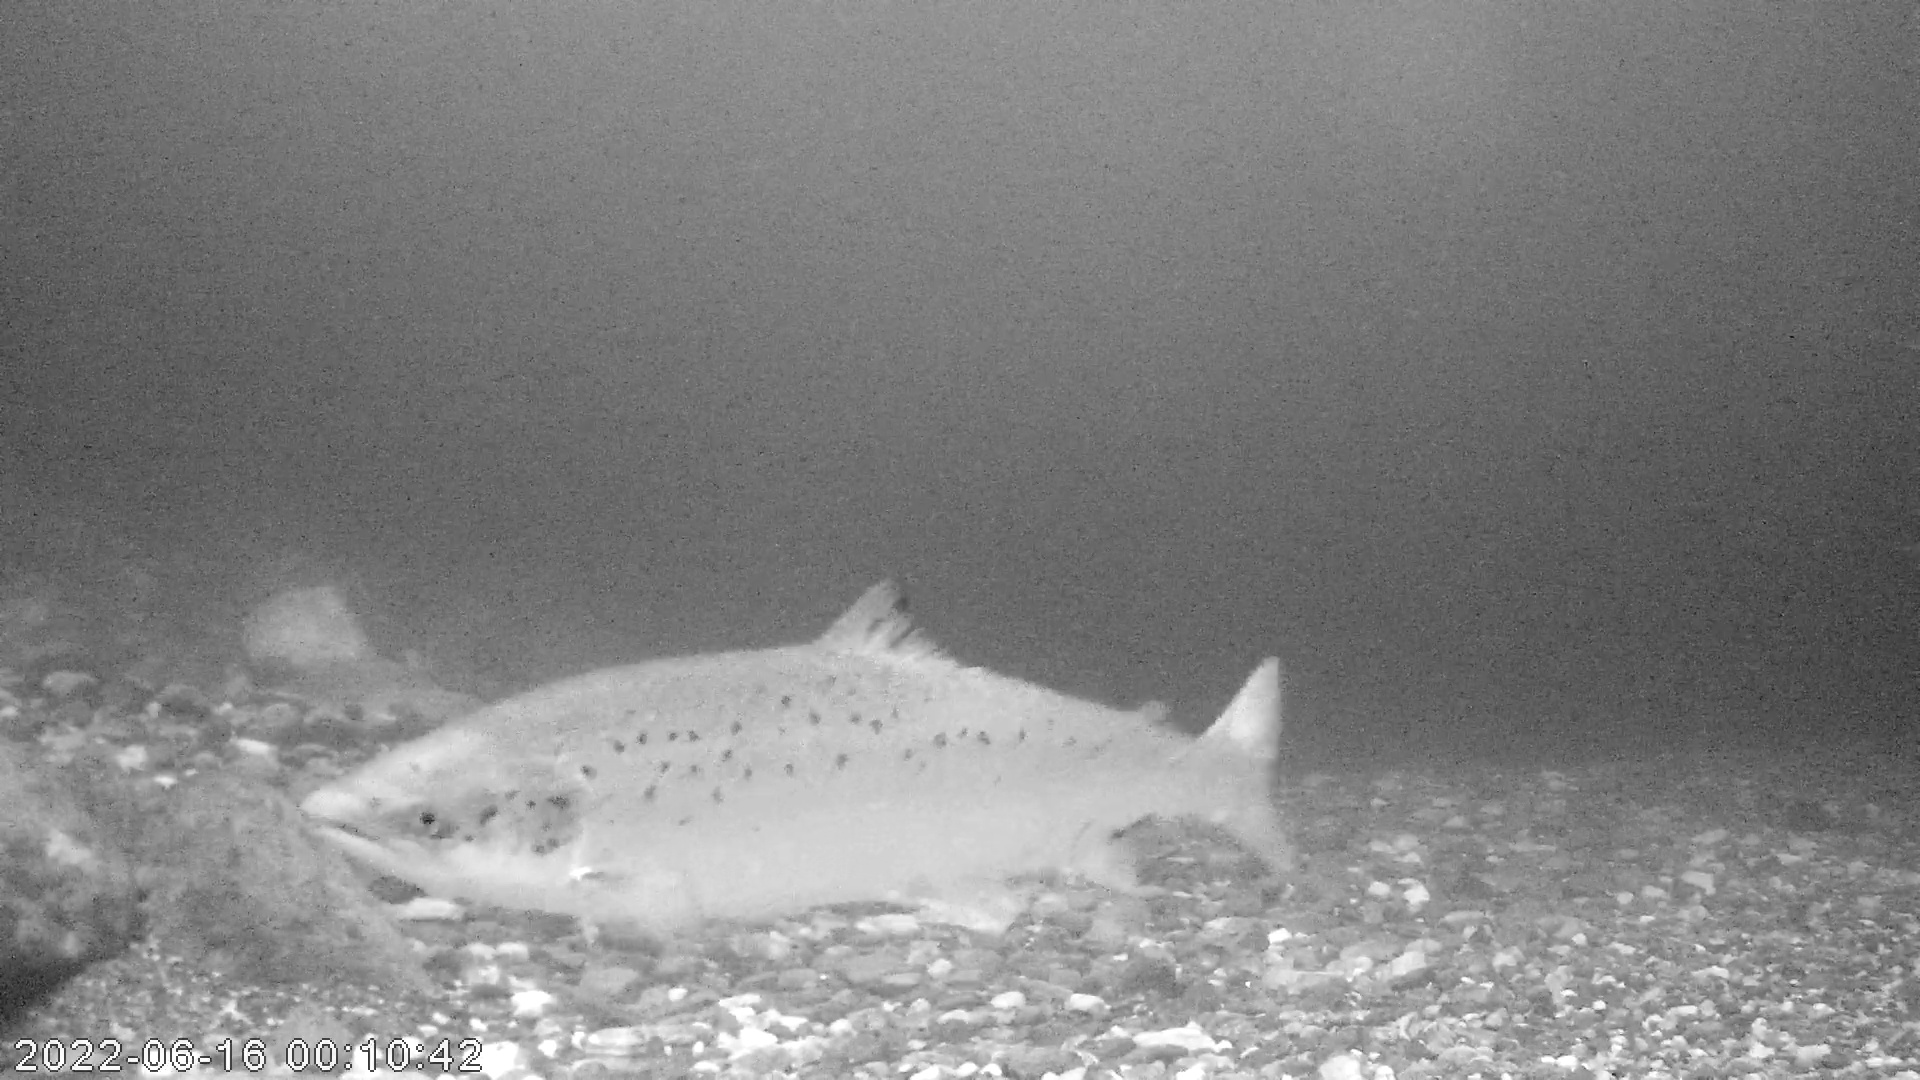salmon: (301, 567, 1302, 935)
